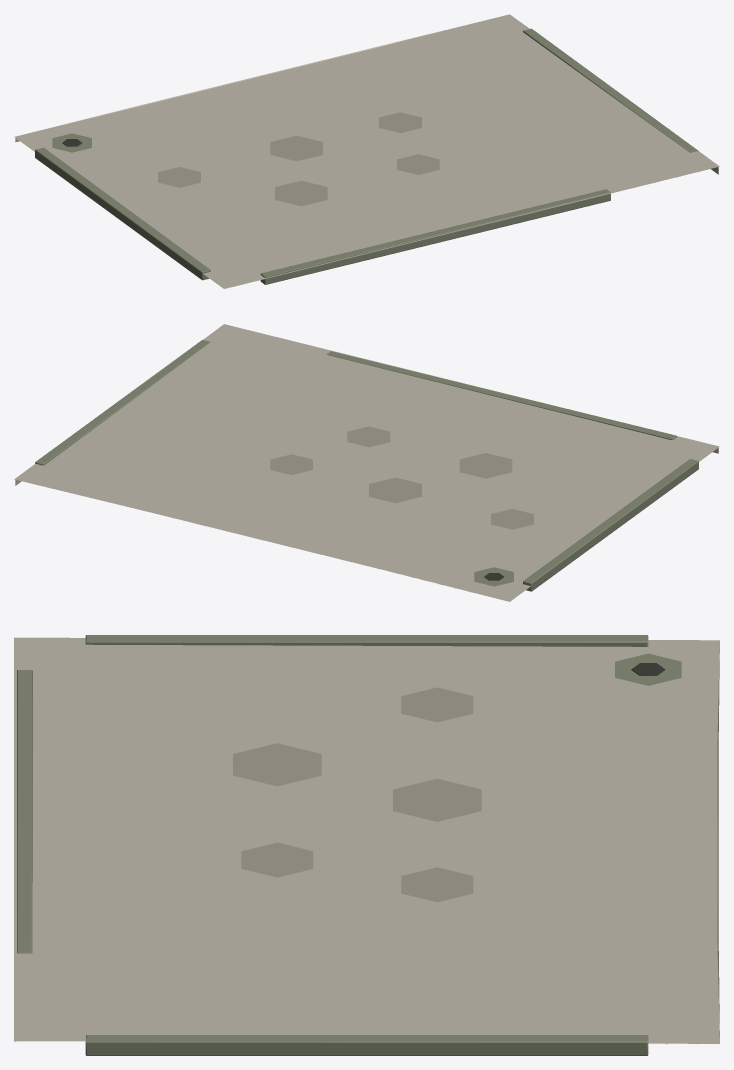
File: NenSanPhoi.glb
3 renders of one model, top to bottom at view 1: azimuth 30°, elevation 25°; view 2: azimuth 150°, elevation 25°; view 3: azimuth 270°, elevation 25°, orthographic. The views are drawn at different scales.
Parts seen in each view (by area): view 1: NenSanPhoi; view 2: NenSanPhoi; view 3: NenSanPhoi.
Boxes of the visible parts, x1,y1,x2,y2 form: NenSanPhoi: [14, 14, 719, 288]; NenSanPhoi: [14, 324, 719, 601]; NenSanPhoi: [14, 635, 719, 1055].
Size of the model in its own units: 3.02 by 0.051 by 2.21.
